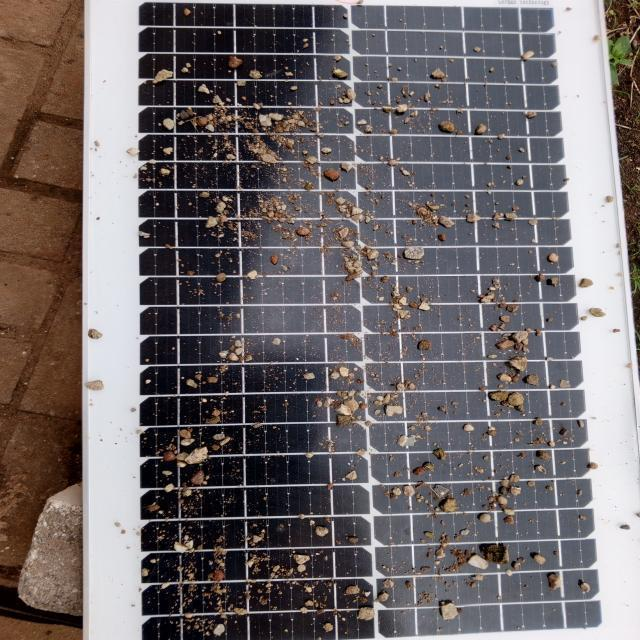Surface Contaminant: (113, 0, 588, 639)
